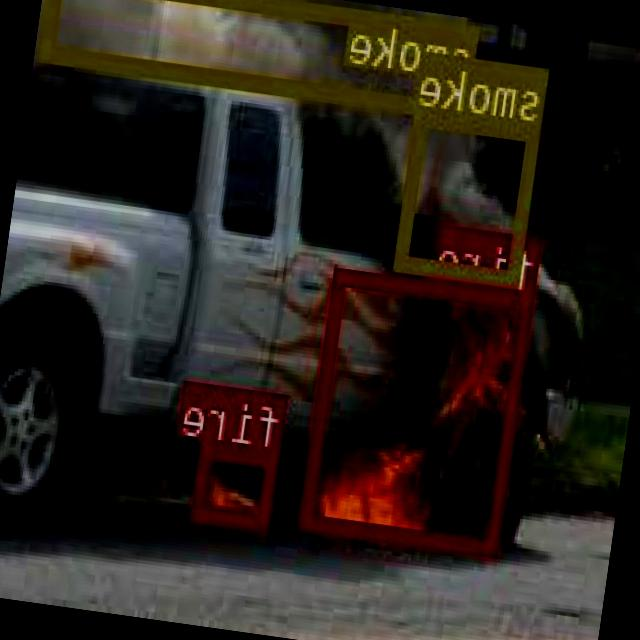fire: (303, 268, 537, 556), (194, 441, 282, 529)
smoke: (44, 0, 483, 118), (396, 104, 544, 284)
